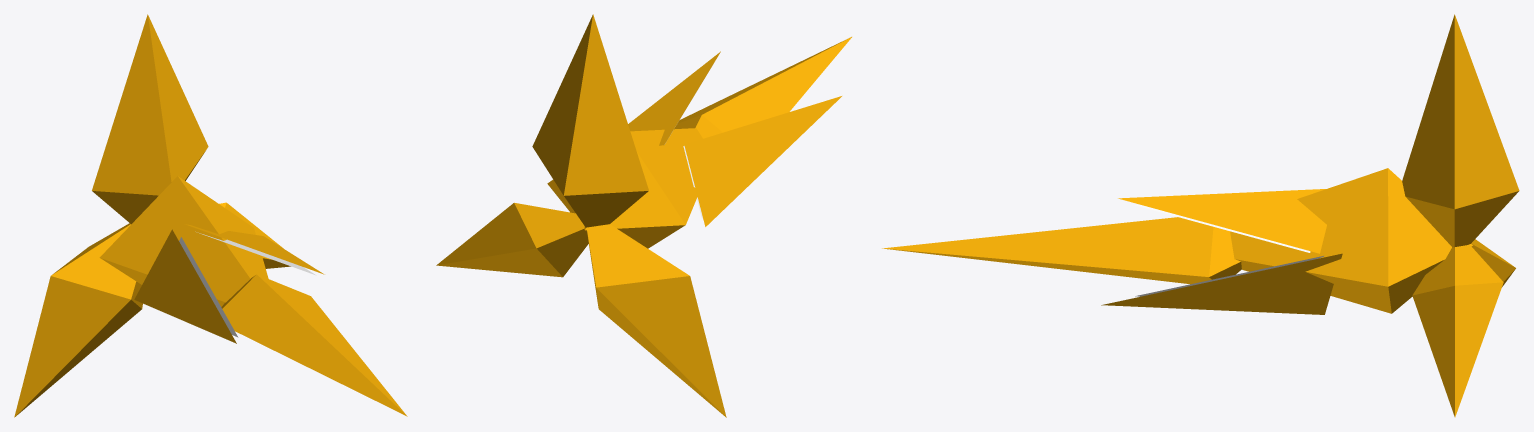
Rendered from MediumMuzzleFlash.glb.
3 views of the same model, side by side, from view 1: azimuth 30°, elevation 25°; view 2: azimuth 150°, elevation 25°; view 3: azimuth 270°, elevation 25° (orthographic). The views are drawn at different scales.
Parts seen in each view (by area): view 1: Cube.001, Cube; view 2: Cube.001; view 3: Cube.001, Cube.
Part boxes in pixels (x1,y1,x2,y2): Cube.001: (14, 14, 407, 417); Cube: (179, 231, 316, 337); Cube.001: (436, 14, 851, 417); Cube.001: (882, 14, 1519, 417); Cube: (1135, 204, 1323, 296).
Size of the model in its own units: 0.647 by 0.7903 by 1.12.
2 materials, 1 textured.
